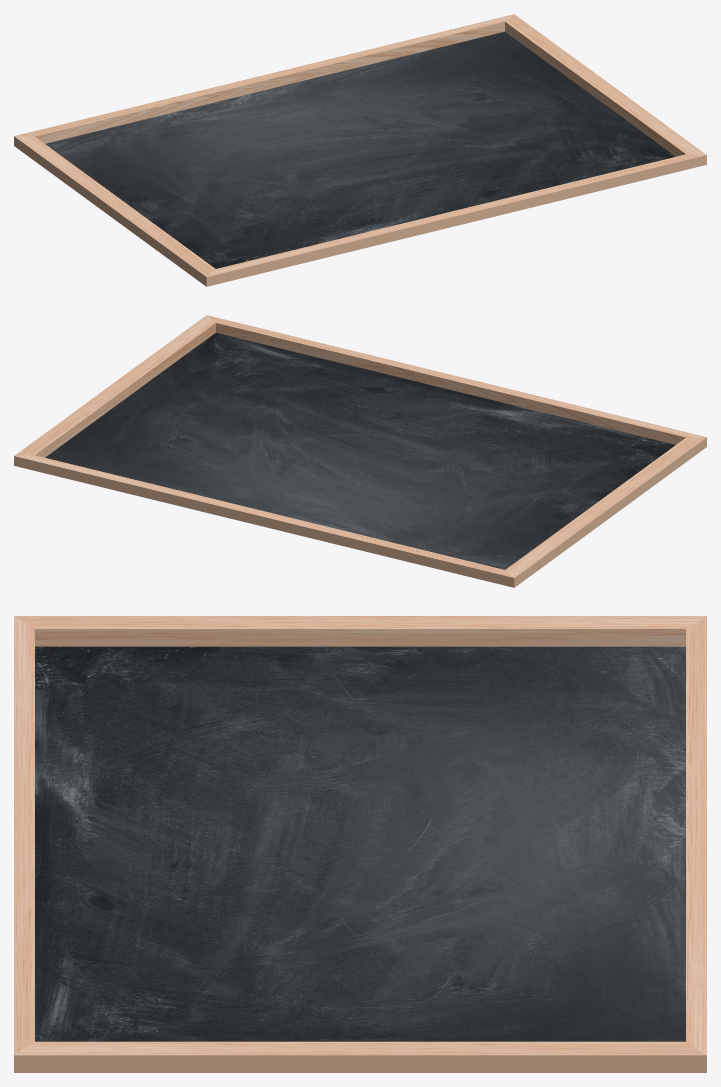
Rendered from ChalkBoard.fbx.
3 views of the same model, one above another, from view 1: azimuth 30°, elevation 25°; view 2: azimuth 150°, elevation 25°; view 3: azimuth 270°, elevation 25° (orthographic). The views are drawn at different scales.
Visible parts, largest first — view 1: Plane; view 2: Plane; view 3: Plane.
Part boxes in pixels (x1,y1,x2,y2): Plane: (14, 14, 706, 286); Plane: (14, 315, 706, 587); Plane: (14, 616, 706, 1072).
Size of the model in its own units: 1200 by 22.88 by 800.
